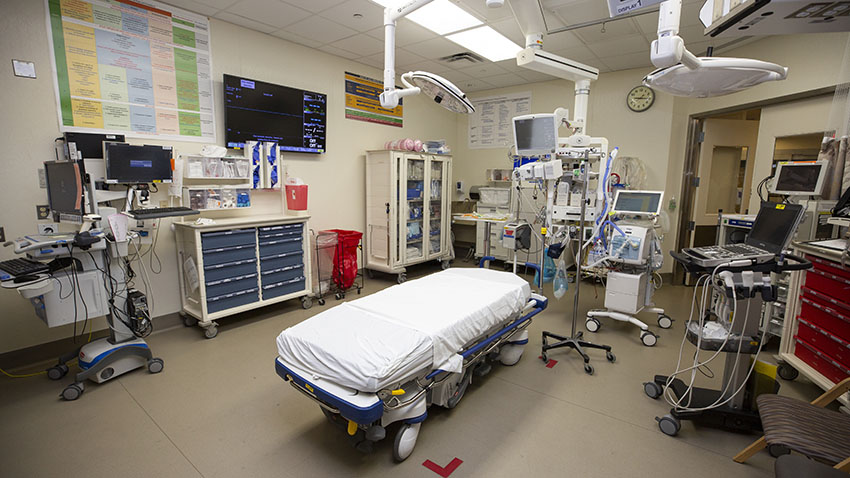TV: (220, 70, 327, 156)
bedside_monitor: (775, 159, 826, 196), (511, 116, 556, 157)
breathing_tube: (591, 214, 639, 259)
cabinet: (364, 147, 450, 279)
chair: (729, 379, 850, 478)
computer: (100, 139, 175, 184), (746, 200, 803, 254), (43, 160, 88, 217)
dispenser: (247, 142, 283, 190)
iv_pole: (540, 151, 615, 373)
keyboard: (692, 241, 774, 264), (125, 205, 200, 218), (10, 257, 48, 275)
medical_drawer: (177, 219, 315, 341), (785, 250, 850, 406), (474, 222, 510, 260)
mouse: (10, 276, 41, 281)
operating_bed: (273, 267, 547, 461)
surgical_light: (645, 62, 789, 113), (401, 73, 474, 117)
ventilator: (588, 187, 675, 347)
waste_bin: (330, 225, 362, 287), (309, 232, 337, 294)
